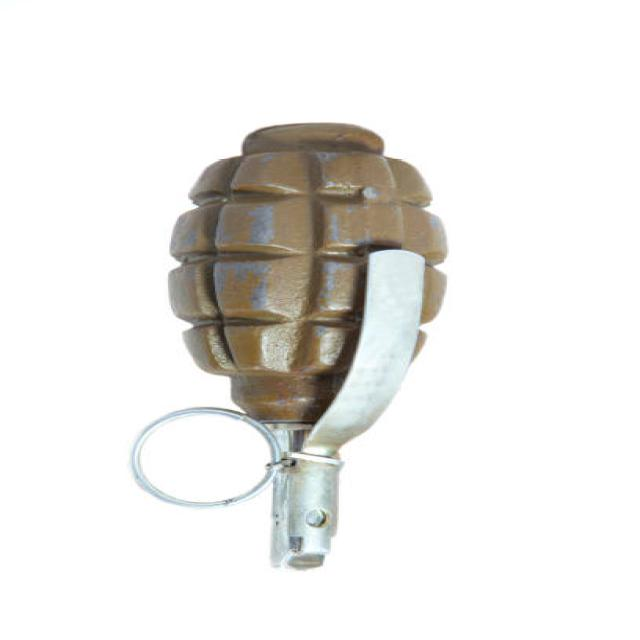grenade: (125, 118, 470, 576)
